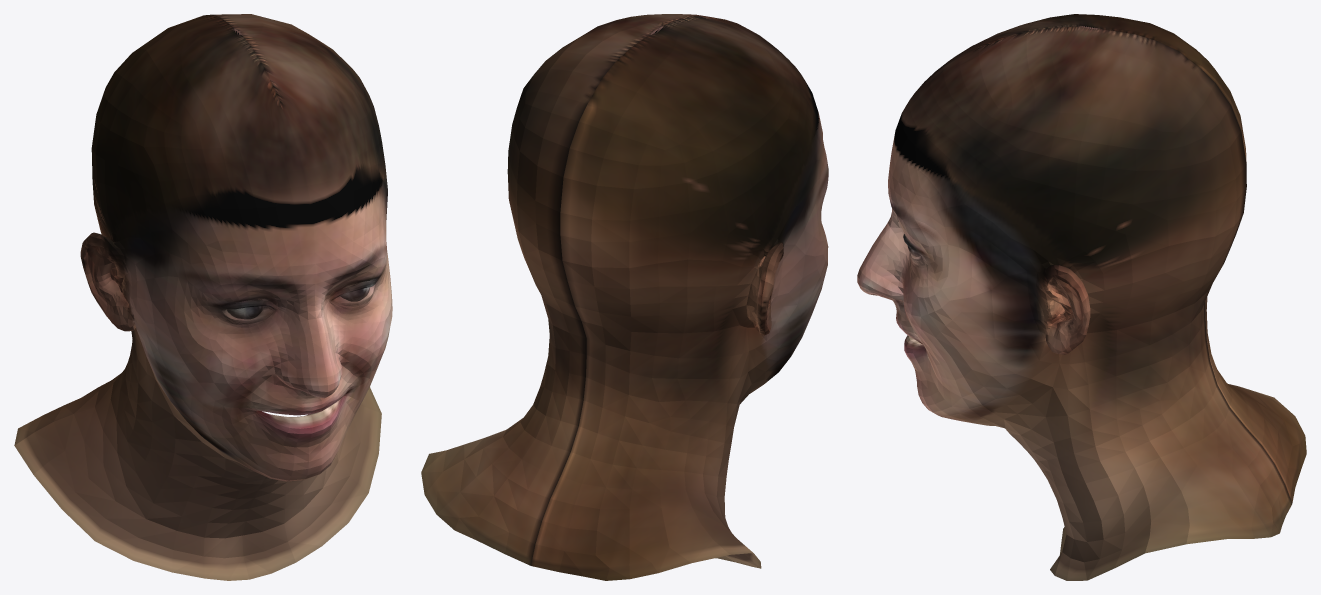
File: face_video_frame0359.obj
3 renders of one model, left to right at view 1: azimuth 30°, elevation 25°; view 2: azimuth 150°, elevation 25°; view 3: azimuth 270°, elevation 25°, orthographic.
Size of the model in its own units: 0.2102 by 0.3268 by 0.2492.
Materials: 1 (1 with a texture image).
